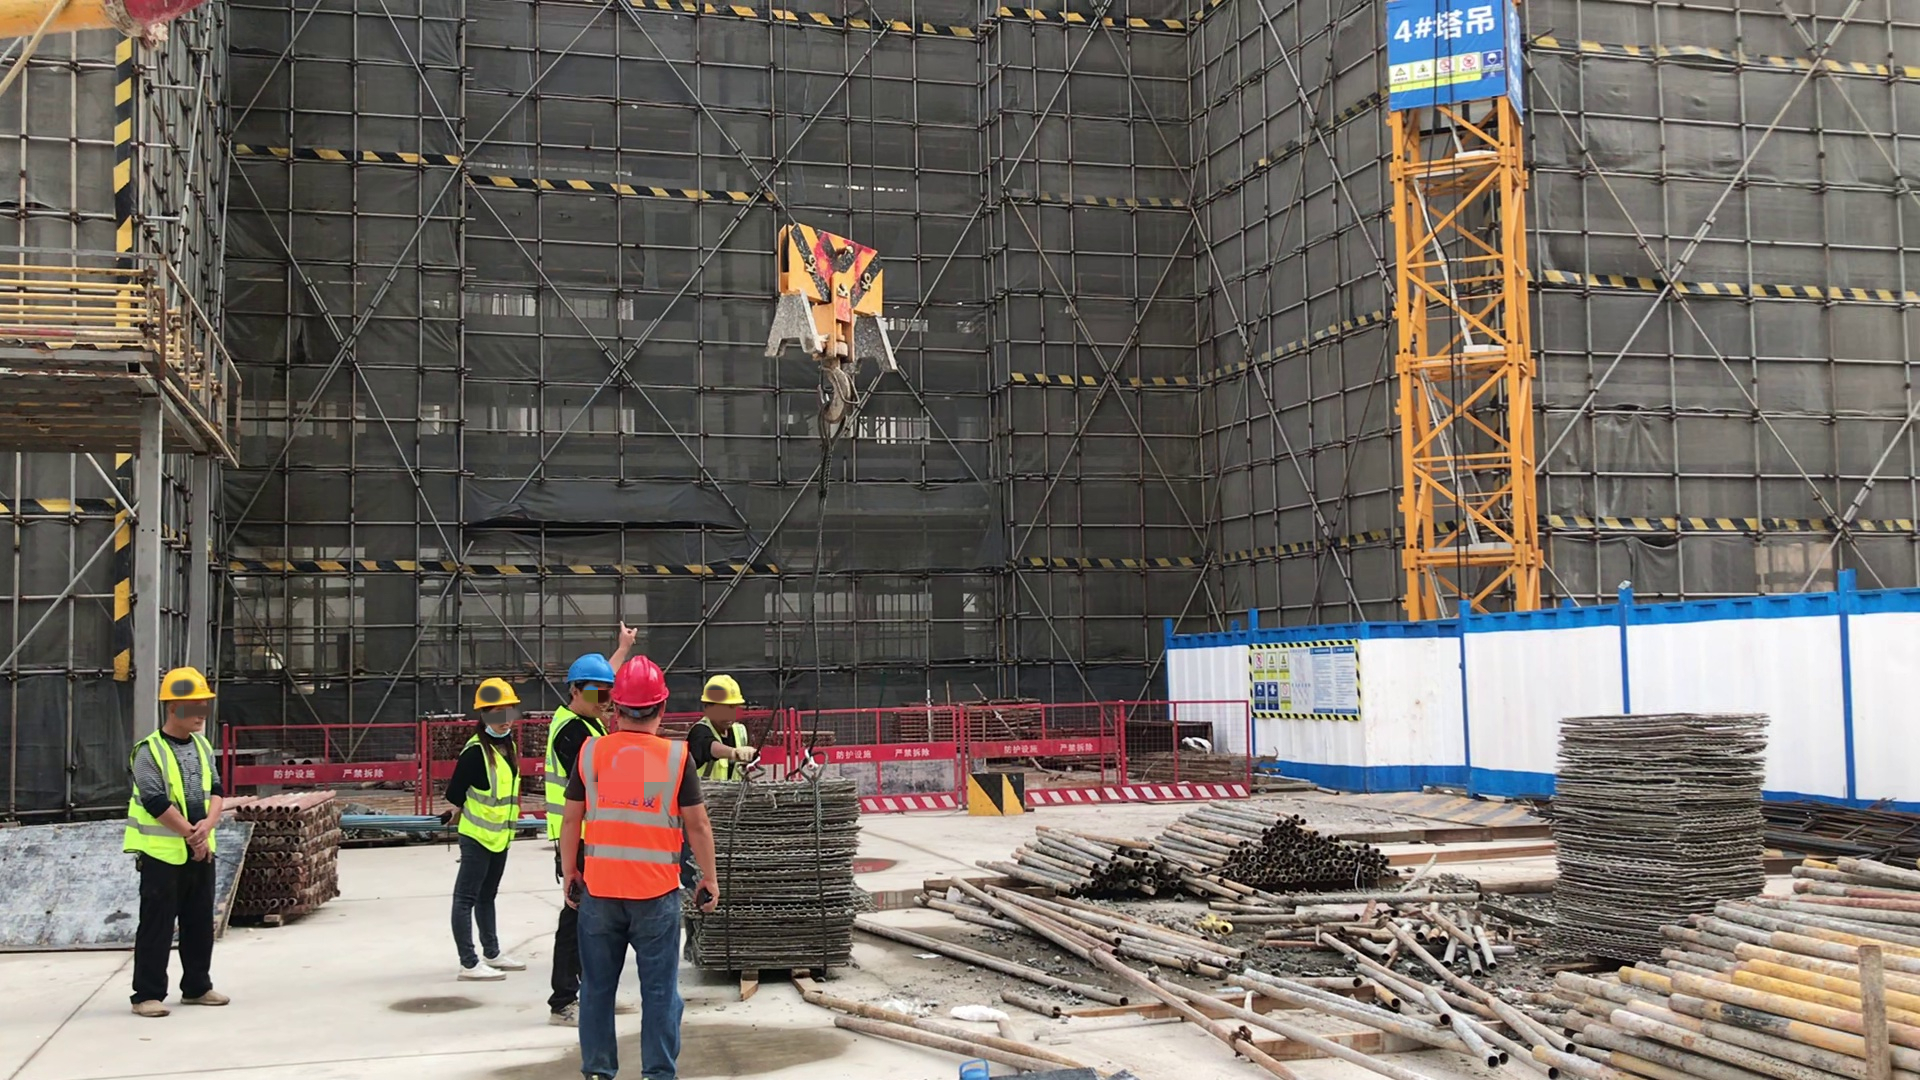fence: (1032, 697, 1254, 808), (244, 720, 437, 791), (865, 708, 962, 817)
helmet: (615, 656, 669, 708), (156, 667, 214, 702), (472, 678, 522, 710), (562, 656, 613, 686), (700, 676, 746, 707)
hook: (766, 220, 903, 413)
person: (554, 654, 722, 1063), (120, 665, 232, 1016), (451, 677, 532, 984), (690, 673, 758, 778), (543, 651, 613, 733)
scaffold: (1548, 853, 1915, 1080), (1195, 800, 1396, 898), (980, 826, 1188, 909), (245, 786, 344, 919)
slogan: (1395, 1, 1502, 104), (1247, 639, 1360, 717)
vest: (130, 732, 219, 865), (460, 733, 522, 855), (692, 718, 751, 779)
